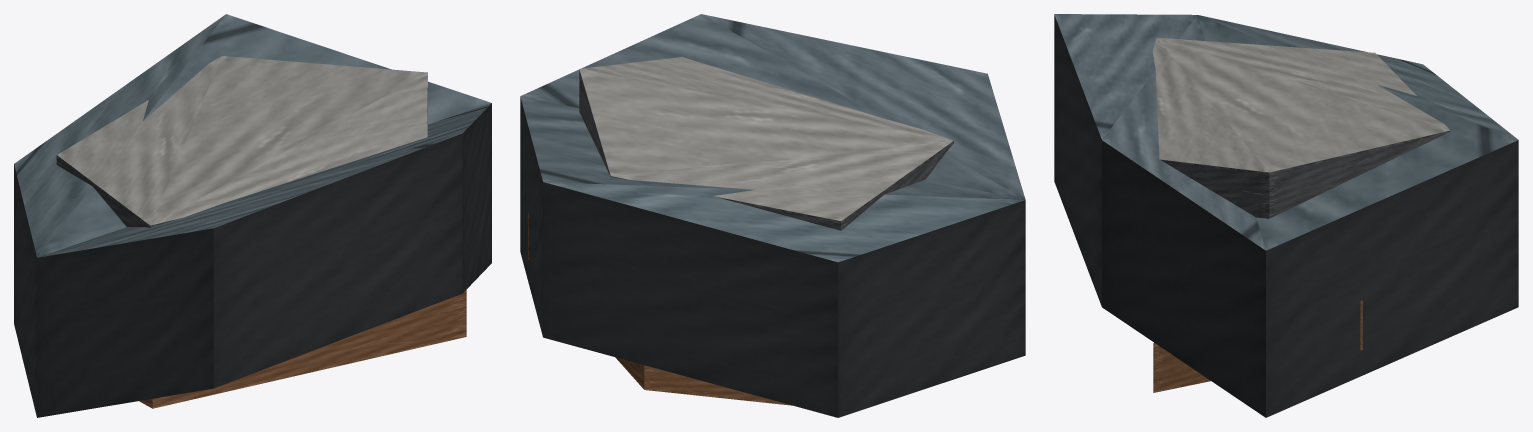
Rendered from Gib.glb.
3 renders of one model, left to right at view 1: azimuth 30°, elevation 25°; view 2: azimuth 150°, elevation 25°; view 3: azimuth 270°, elevation 25°, orthographic. The views are drawn at different scales.
Parts seen in each view (by area): view 1: Gib; view 2: Gib; view 3: Gib.
Boxes of the visible parts, x1,y1,x2,y2 form: Gib: (14,14,491,417); Gib: (520,14,1025,417); Gib: (1054,14,1518,417).
Size of the model in its own units: 0.172 by 0.091 by 0.136.
Materials: 1 (1 with a texture image).
